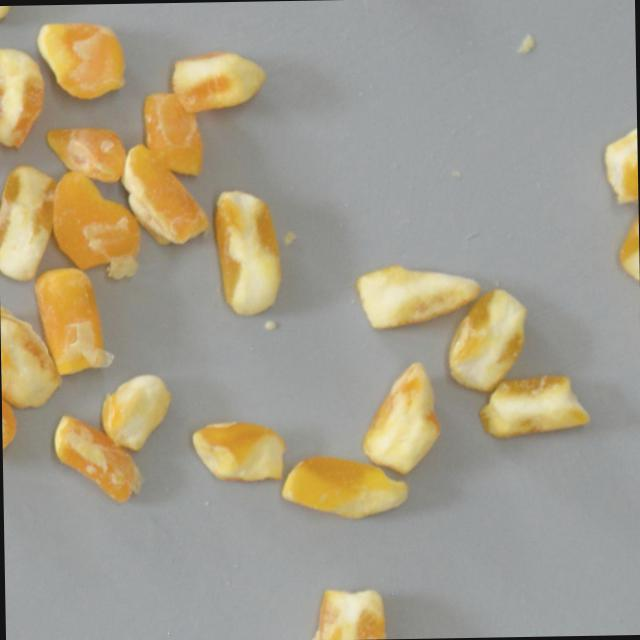estandar: (214, 188, 283, 315), (282, 455, 410, 521), (618, 188, 639, 283)
pelicula: (50, 170, 144, 278), (359, 357, 443, 475), (355, 258, 482, 332), (123, 140, 210, 247), (448, 285, 531, 390), (40, 265, 115, 377), (53, 412, 144, 504), (479, 370, 594, 439), (38, 17, 128, 101), (0, 163, 58, 281), (0, 303, 64, 408), (192, 418, 288, 483), (170, 50, 267, 113), (98, 372, 174, 449), (142, 91, 207, 177), (0, 45, 47, 149), (47, 125, 127, 182), (308, 585, 389, 640), (603, 122, 638, 204), (1, 373, 21, 461)
